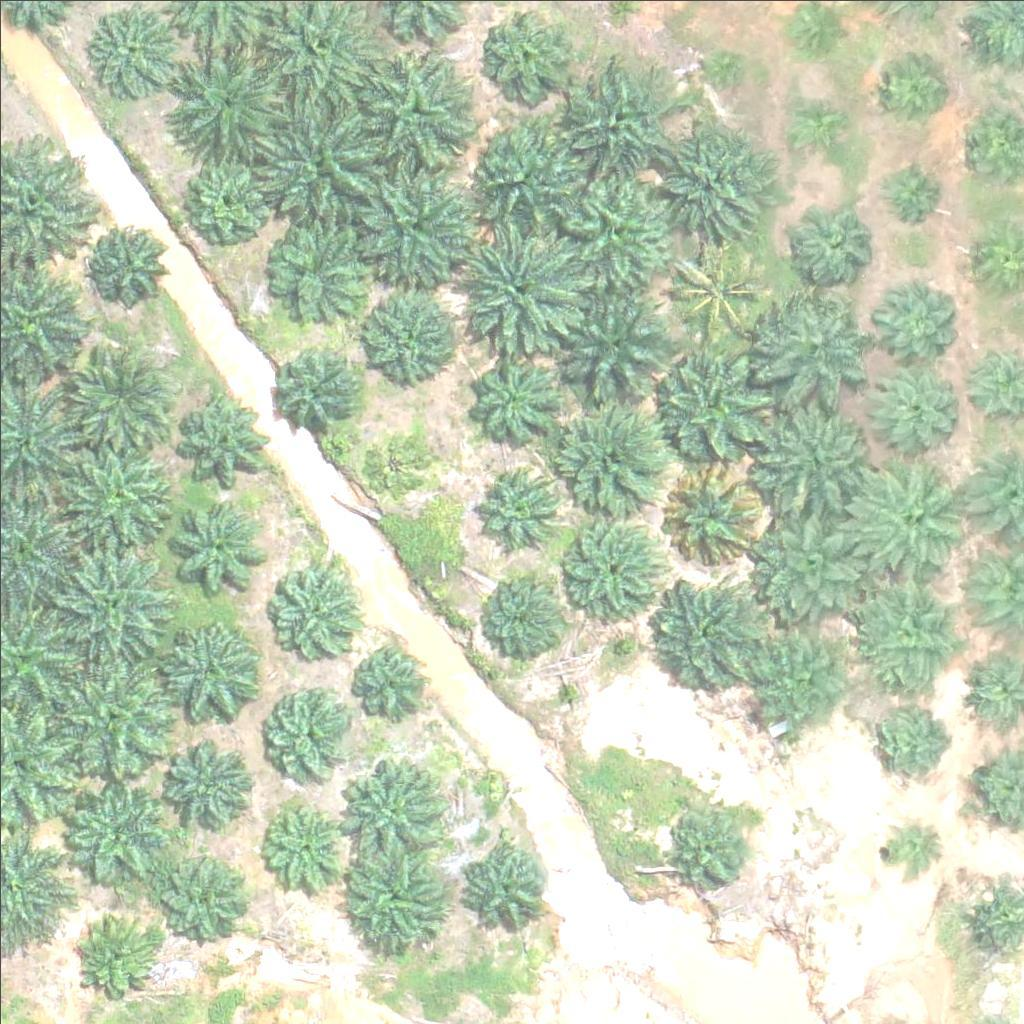Kelapa_Sawit: (847, 459, 972, 585), (48, 654, 173, 780), (644, 574, 769, 700), (650, 340, 775, 466), (747, 393, 872, 519), (750, 287, 875, 413), (548, 398, 673, 524), (552, 167, 677, 293), (645, 120, 770, 246), (464, 224, 589, 350), (455, 105, 580, 231), (359, 160, 484, 286), (357, 45, 482, 171), (258, 102, 383, 228), (162, 45, 287, 171), (559, 61, 684, 187), (755, 495, 880, 620), (549, 283, 674, 408), (661, 238, 774, 352), (654, 458, 767, 571), (264, 205, 377, 318), (743, 623, 855, 737), (554, 507, 666, 621), (853, 572, 965, 685), (63, 343, 175, 456), (59, 450, 171, 563), (59, 551, 171, 664), (858, 359, 958, 460), (63, 781, 163, 882), (167, 500, 267, 601), (168, 393, 268, 494), (340, 757, 440, 858), (344, 850, 444, 951), (465, 355, 565, 456), (362, 280, 462, 381), (476, 3, 576, 104), (162, 620, 262, 720), (85, 2, 185, 102), (184, 155, 272, 243), (872, 278, 960, 366), (153, 853, 241, 941), (260, 798, 348, 886), (263, 685, 351, 773), (271, 562, 359, 650), (461, 838, 549, 926), (273, 350, 360, 439), (663, 797, 750, 885), (344, 638, 431, 726), (74, 910, 161, 998), (160, 734, 247, 822), (793, 198, 880, 286), (470, 468, 557, 556), (475, 573, 562, 661), (867, 710, 942, 786), (356, 427, 431, 503), (878, 49, 953, 124), (90, 225, 165, 300), (787, 88, 850, 151), (875, 814, 937, 877), (881, 165, 943, 228), (701, 45, 751, 95)
